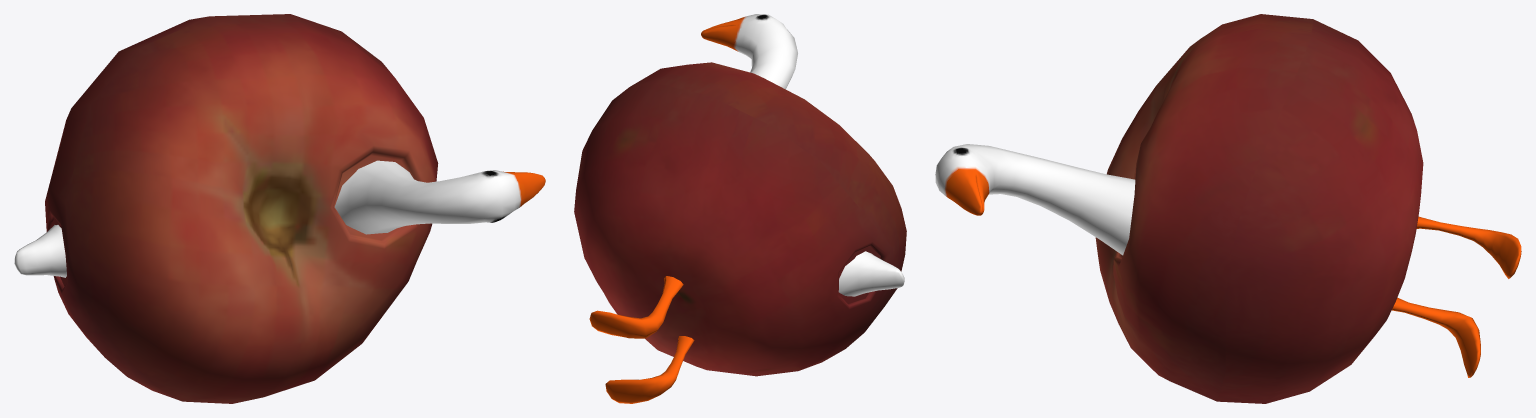
File: Goose_Tomato.obj
3 renders of one model, left to right at view 1: azimuth 30°, elevation 25°; view 2: azimuth 150°, elevation 25°; view 3: azimuth 270°, elevation 25°, orthographic. The views are drawn at different scales.
Visible parts, largest first — view 1: xihongshi, e; view 2: xihongshi, e; view 3: xihongshi, e.
Part boxes in pixels (x1,y1,x2,y2): xihongshi: [45, 14, 438, 403]; e: [14, 160, 545, 277]; xihongshi: [574, 62, 906, 376]; e: [589, 14, 904, 403]; xihongshi: [1095, 14, 1423, 403]; e: [935, 144, 1521, 377].
Size of the model in its own units: 1.41 by 1.22 by 1.82.
